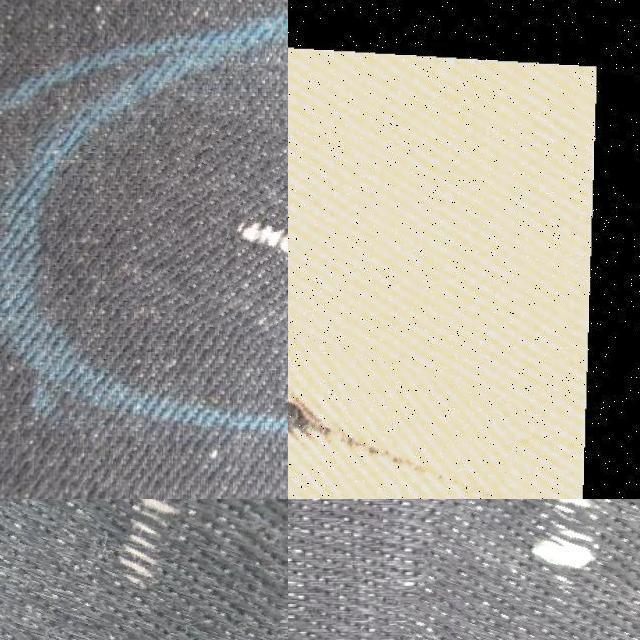Thread_other: (288, 313, 521, 499), (0, 499, 288, 640), (123, 115, 288, 358), (416, 499, 640, 640)
